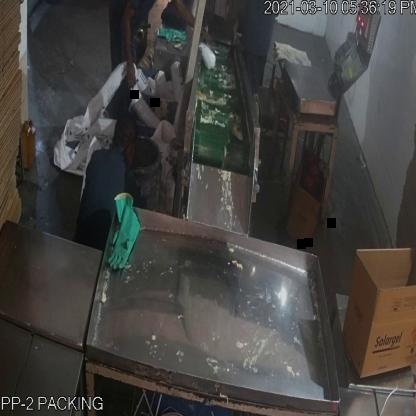no_glove: (120, 0, 140, 102)
